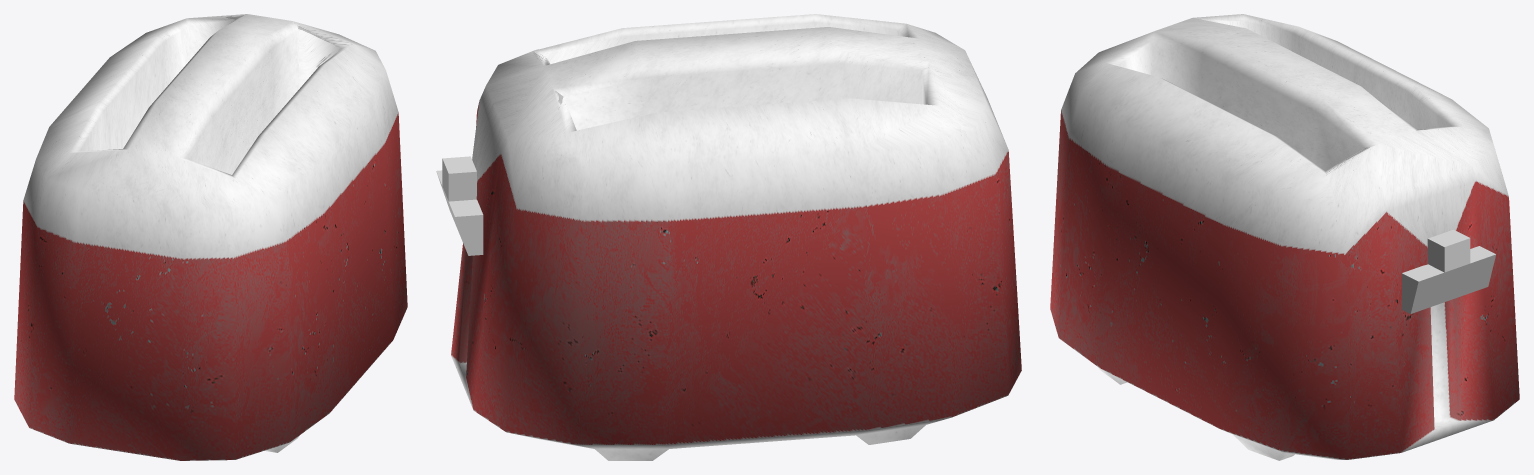
Rendered from Rosten.fbx.
The picture shows the model from 3 angles, left to right: view 1: azimuth 30°, elevation 25°; view 2: azimuth 150°, elevation 25°; view 3: azimuth 270°, elevation 25°; orthographic projection. The views are drawn at different scales.
Visible parts, largest first — view 1: Untitled.004; view 2: Untitled.004, Cube.021; view 3: Untitled.004, Cube.021.
Part boxes in pixels (x1,y1,x2,y2): Untitled.004: [14, 14, 407, 460]; Untitled.004: [451, 14, 1021, 460]; Cube.021: [436, 156, 483, 255]; Untitled.004: [1050, 14, 1519, 460]; Cube.021: [1402, 229, 1495, 313].
Bounding box in the file's own units: 470 × 329 × 441.
Materials: 2 (1 with a texture image).
